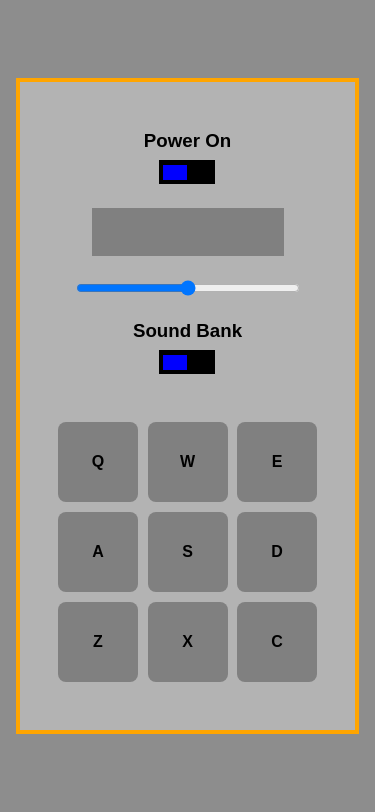
Test: Drum Machine › When sound bank is changed, the display should update
Click the checkbox below "Sound Bank" at x=188, y=362, box left=160, top=350, right=216, bottom=374
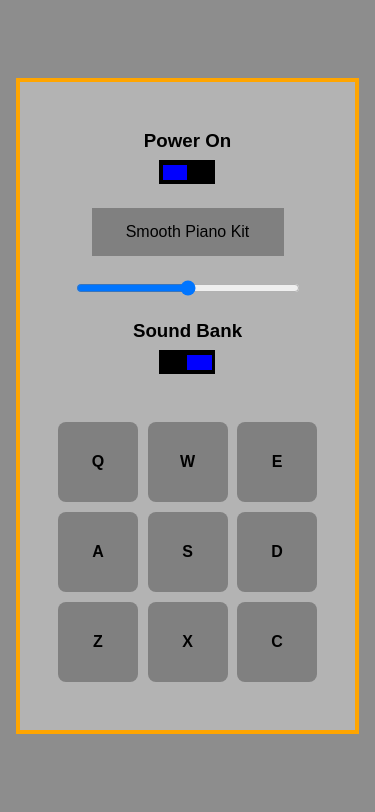
Expected: the text with id "display" reads "Smooth Piano Kit", left=92, top=208, right=284, bottom=256
Click the checkbox below "Sound Bank" at x=188, y=362, box left=160, top=350, right=216, bottom=374
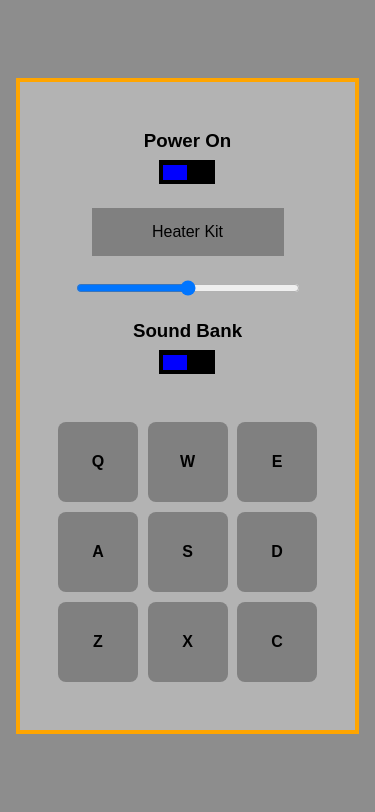
Expected: the text with id "display" reads "Heater Kit", left=92, top=208, right=284, bottom=256
